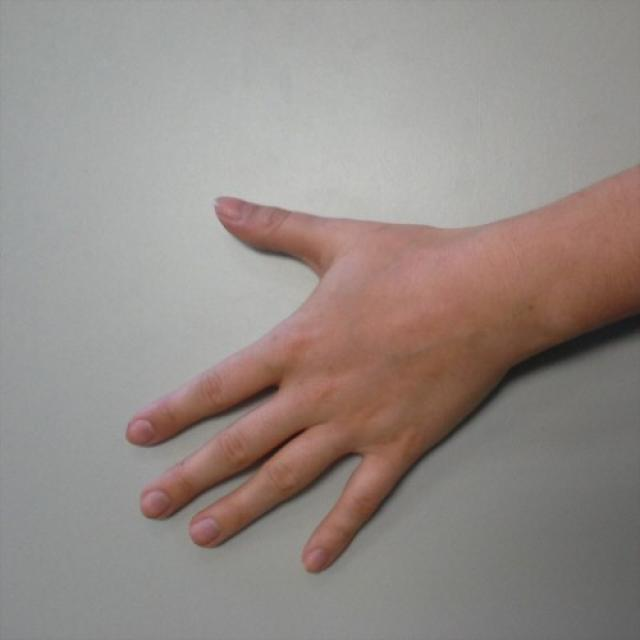paper: (124, 190, 488, 576)
